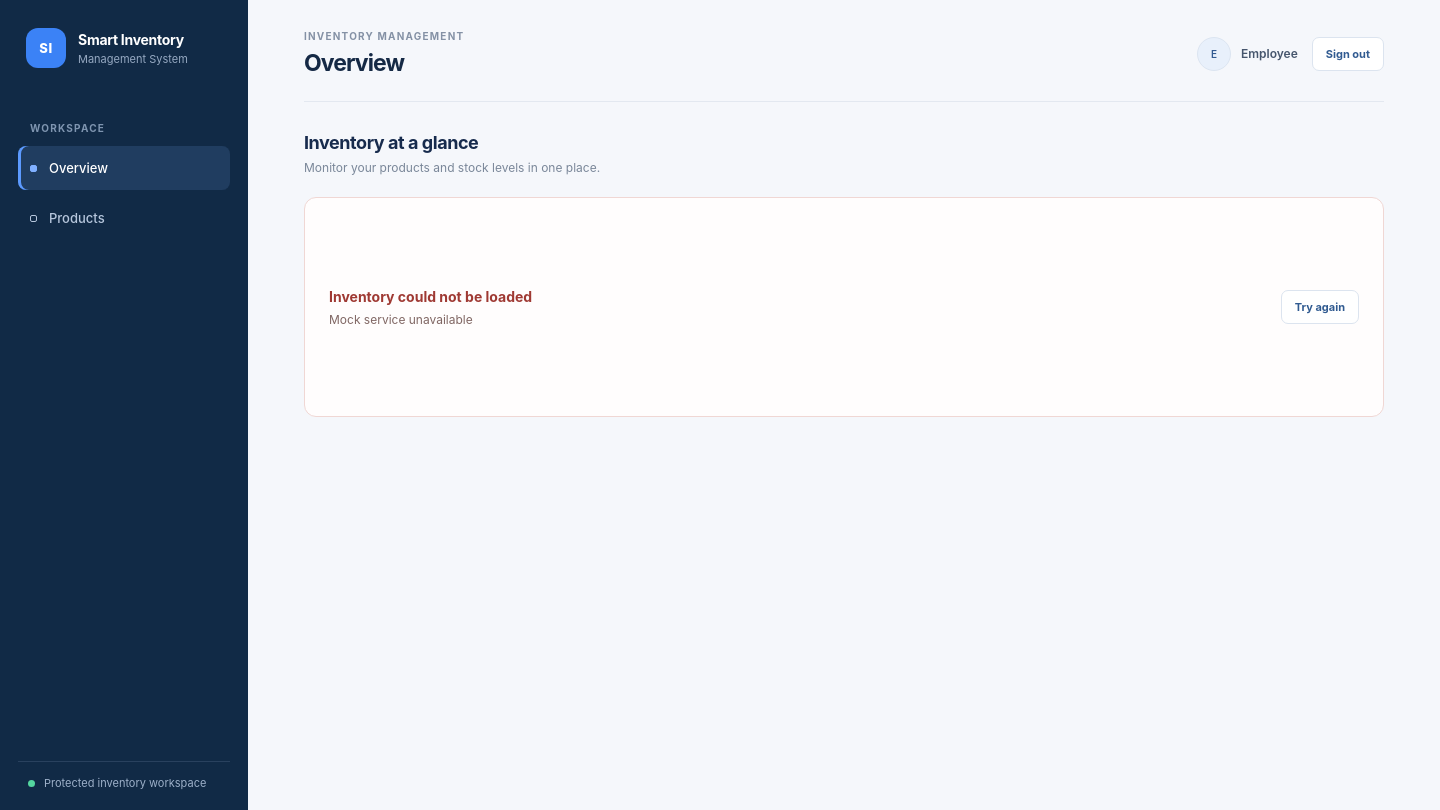
Scenario: inventory dashboard › shows load errors and retries the request
Check: the message shows "Mock service unavailable", box [329,312,473,326]
Click the button "Try again" at (1320,307), box [1281,290,1359,324]
(page scrolled)
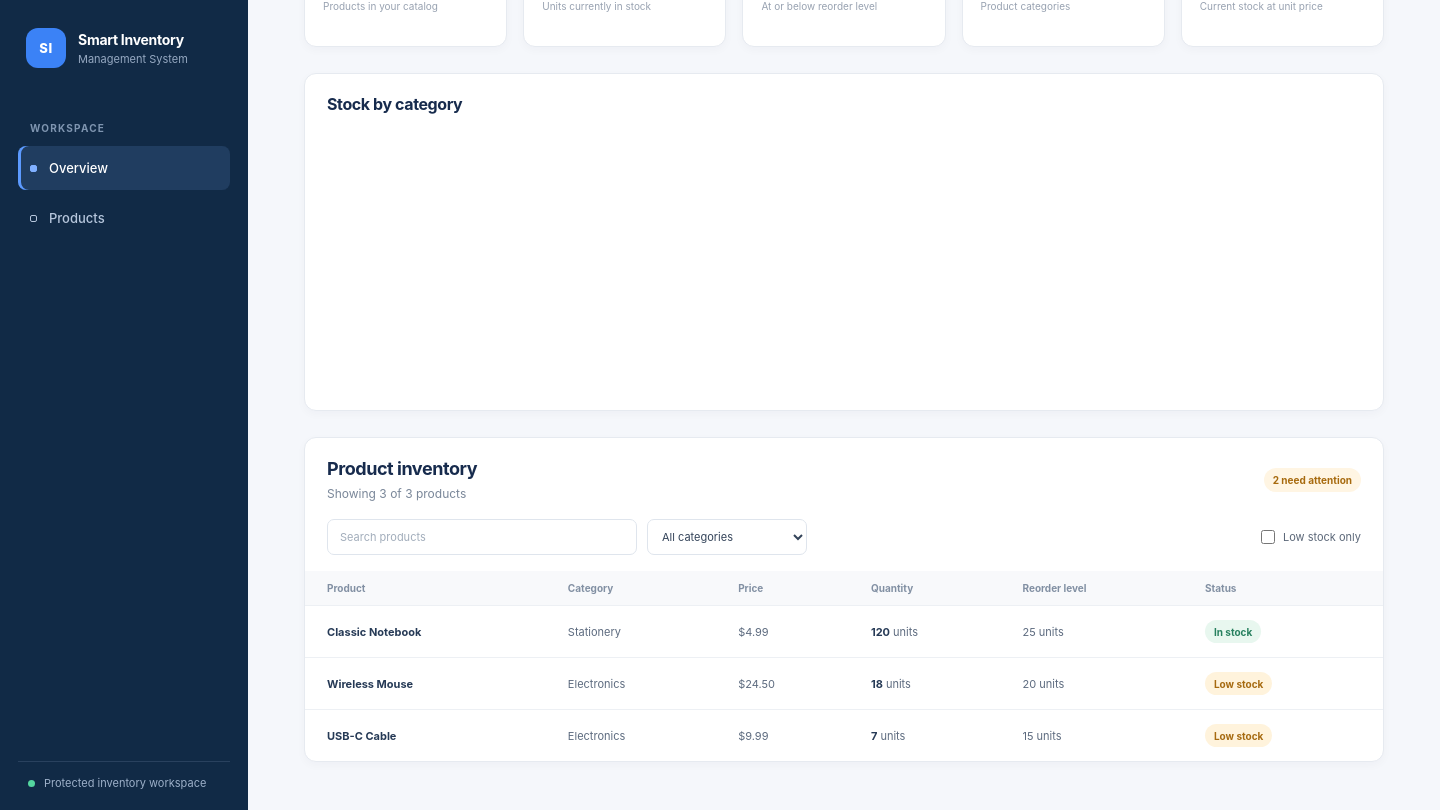
Check: the text "Classic Notebook" is shown, box [327,624,421,638]
